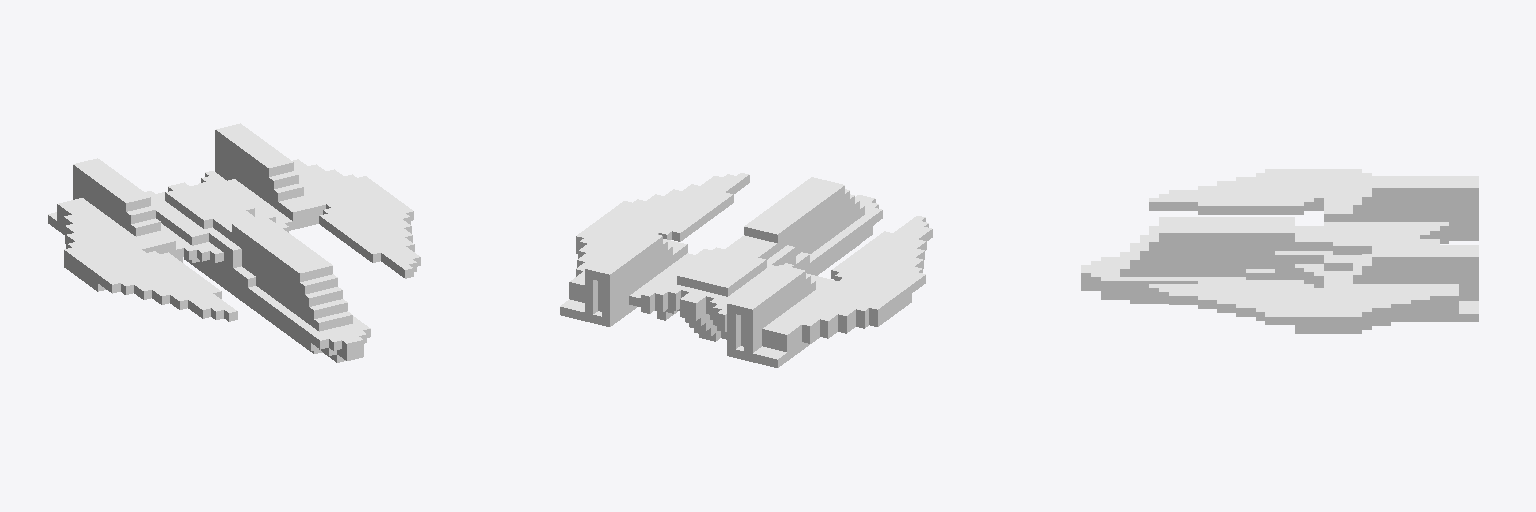
The model's file is Player_Ship_1.obj.
3 renders of one model, left to right at view 1: azimuth 30°, elevation 25°; view 2: azimuth 150°, elevation 25°; view 3: azimuth 270°, elevation 25°, orthographic.
Visible parts, largest first — view 1: Player_Ship_1; view 2: Player_Ship_1; view 3: Player_Ship_1.
Boxes of the visible parts, x1,y1,x2,y2 form: Player_Ship_1: [48, 123, 420, 362]; Player_Ship_1: [560, 173, 932, 367]; Player_Ship_1: [1081, 169, 1478, 333].
Bounding box in the file's own units: 36 × 9 × 41.